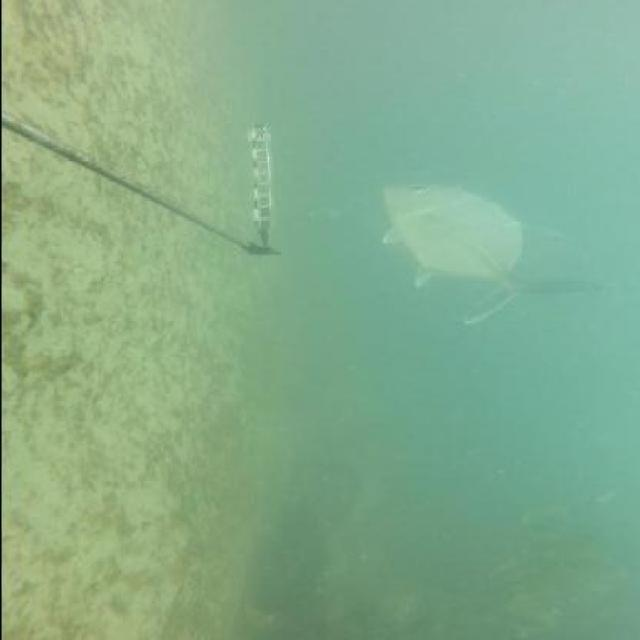Caranx: (370, 179, 602, 327)
